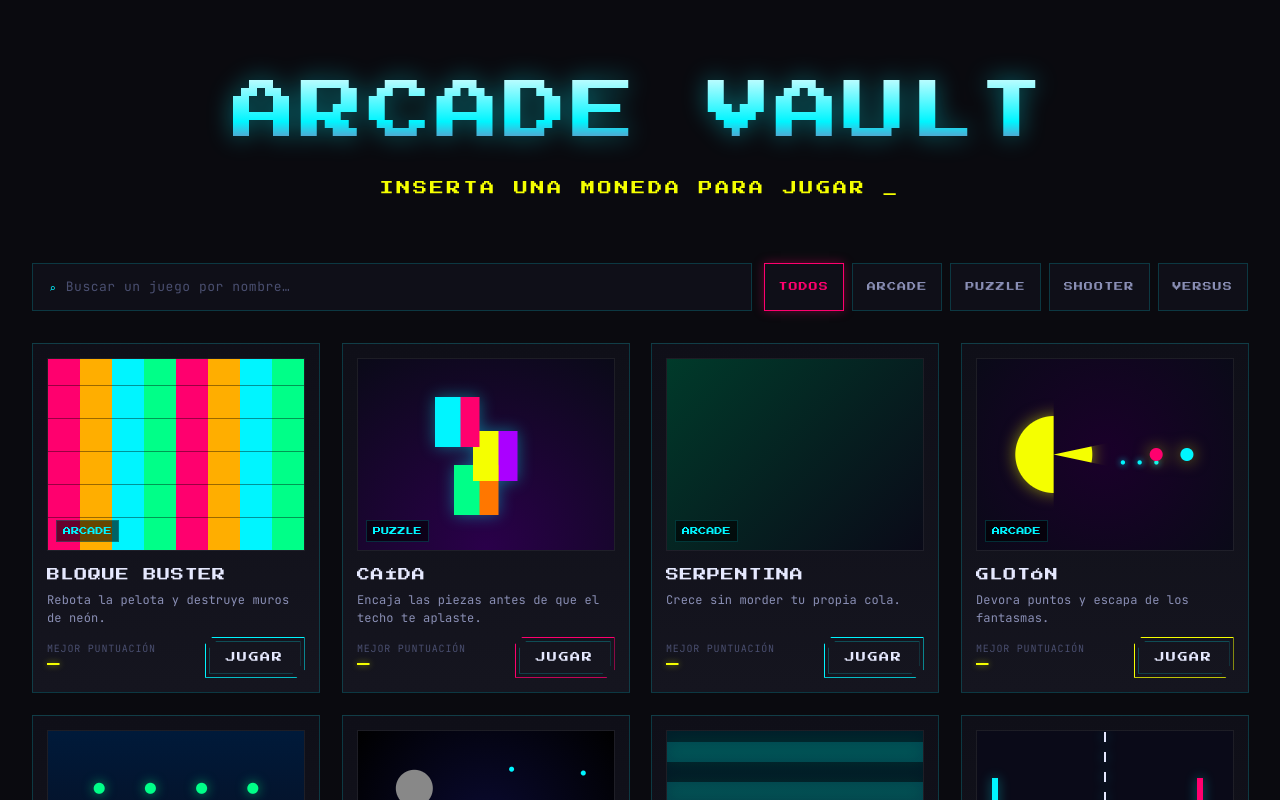
Scenario: LibraryScreen › filters games by title as the user types
Type "caída" into the field with placeholder "Buscar un juego por nombre…". click: {"x": 400, "y": 287}
box: [66,277,735,297]
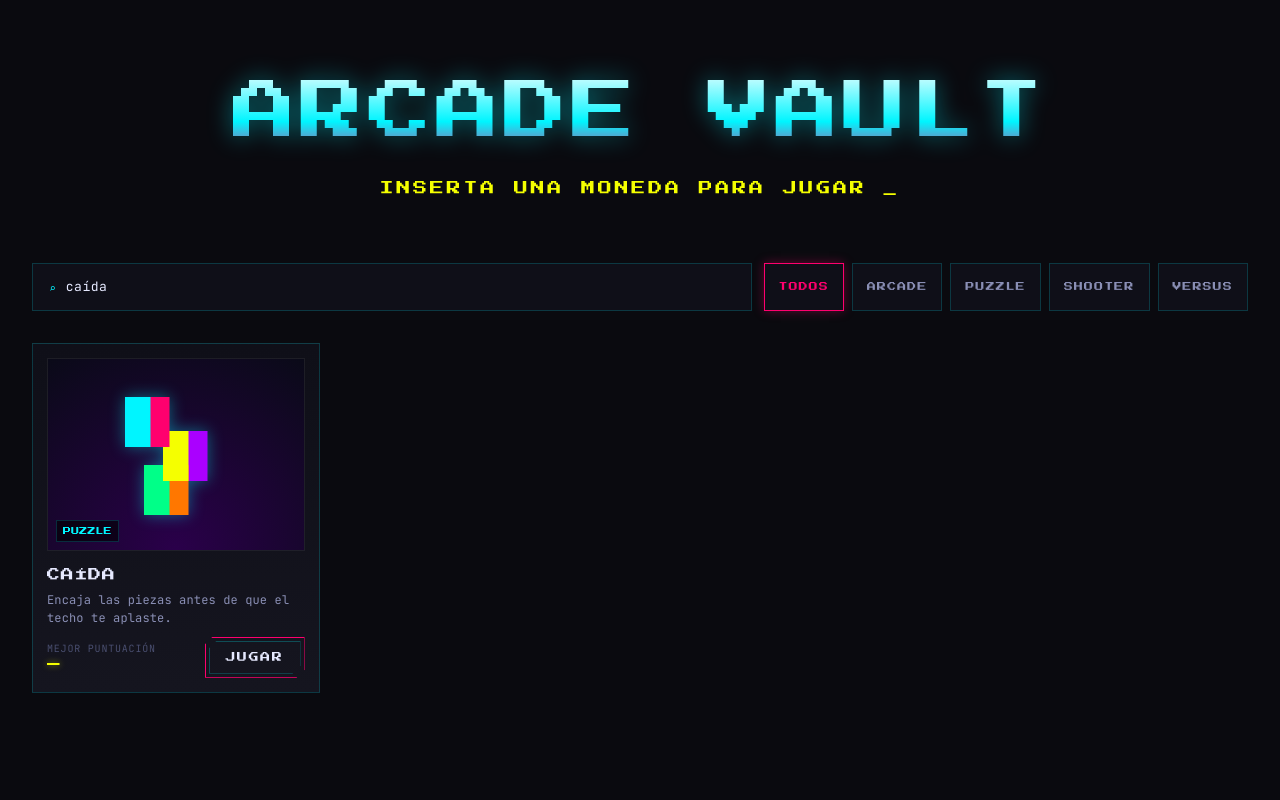
Check: the text "CAÍDA" is shown, box [47,568,116,581]
Check: the link "SERPENTINA" is gone
